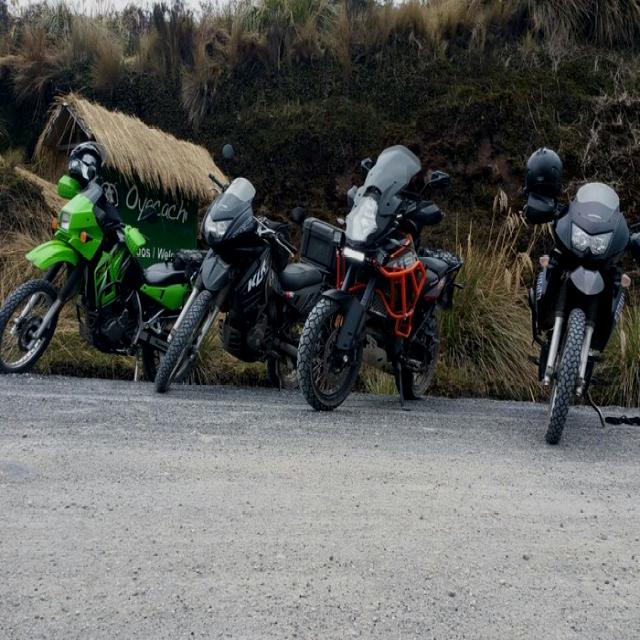MOTORCYCLE: (526, 171, 638, 452), (18, 169, 157, 381), (325, 193, 442, 408), (184, 191, 294, 375)
